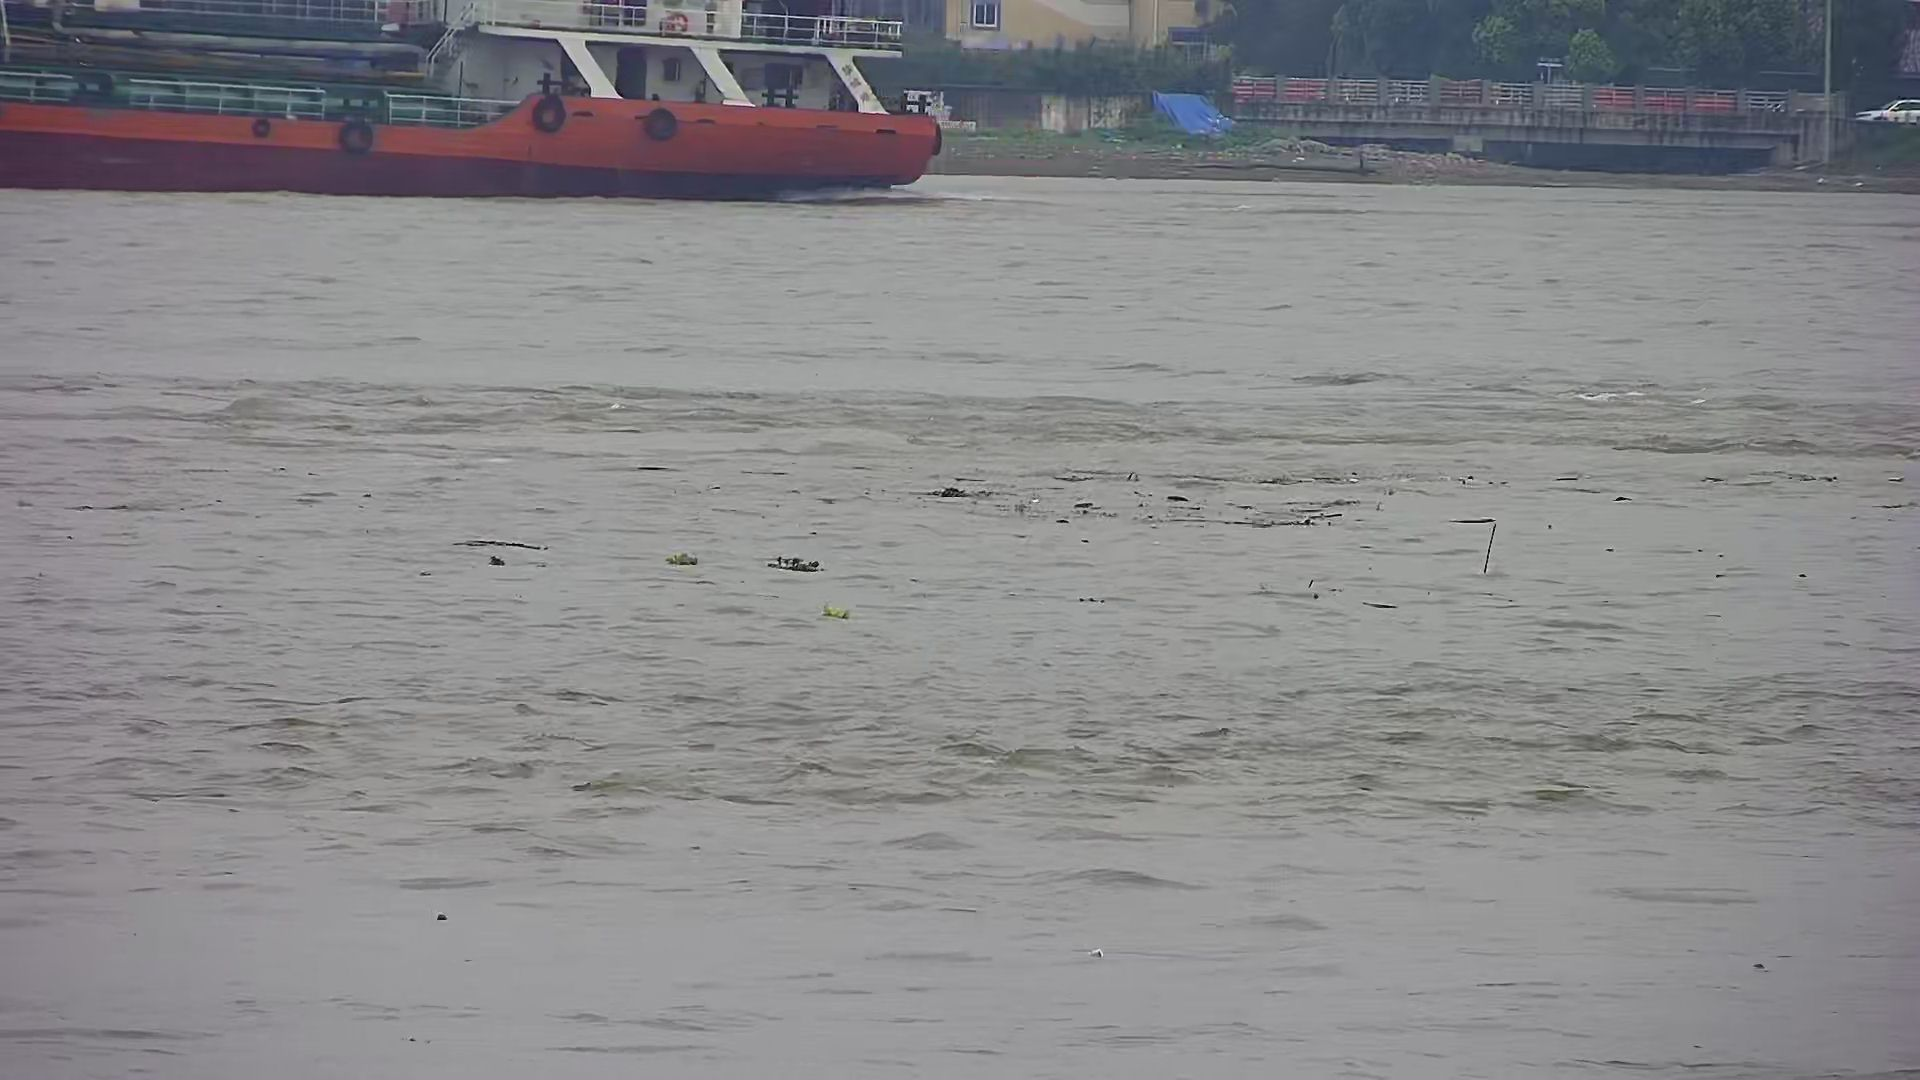ship: (4, 3, 943, 200)
